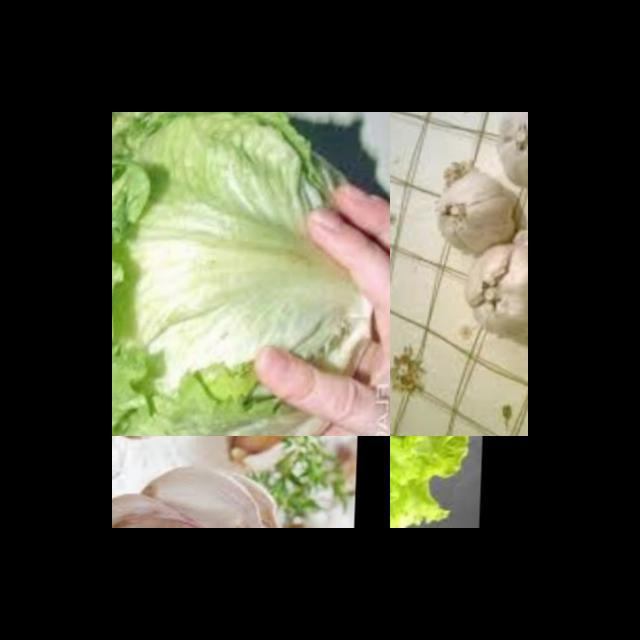garlic: (112, 453, 344, 528), (431, 169, 520, 263), (459, 235, 528, 339), (487, 112, 528, 195), (227, 436, 316, 471), (287, 500, 356, 528)
